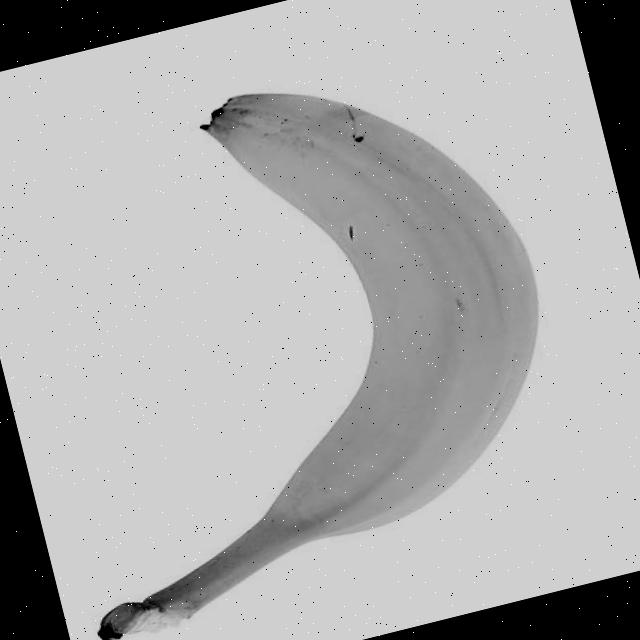banana: (34, 34, 598, 632)
